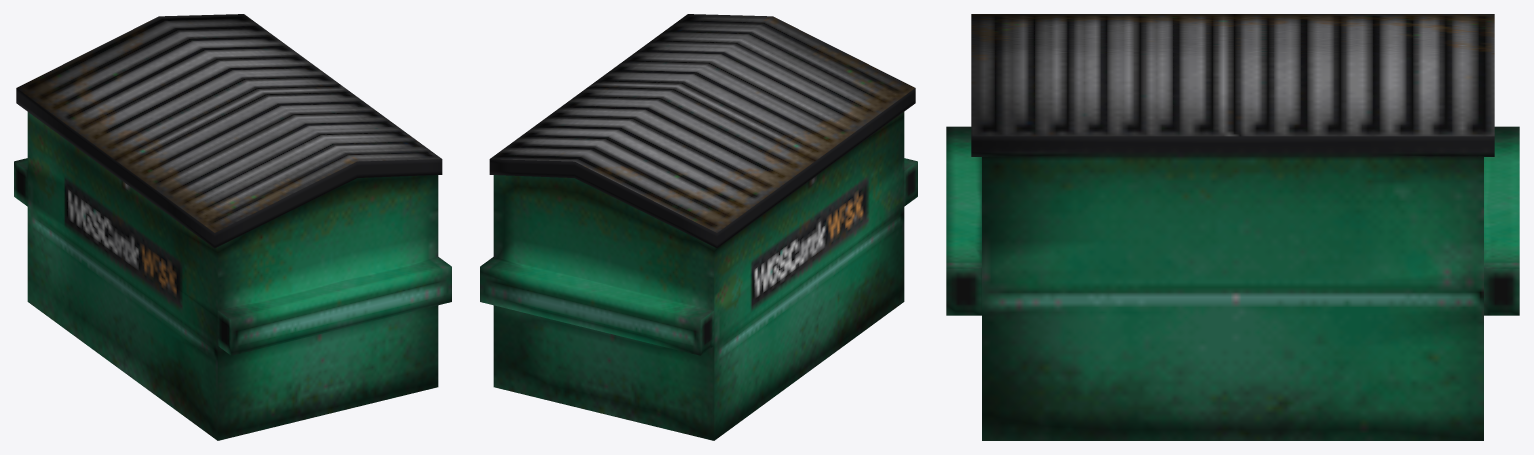
File: dumpster0.fbx
3 views of the same model, side by side, from view 1: azimuth 30°, elevation 25°; view 2: azimuth 150°, elevation 25°; view 3: azimuth 270°, elevation 25° (orthographic). The views are drawn at different scales.
Visible parts, largest first — view 1: dumpster0; view 2: dumpster0; view 3: dumpster0.
Part boxes in pixels (box(x1,y1,x2,y2)): dumpster0: box(14, 14, 451, 440); dumpster0: box(480, 14, 917, 440); dumpster0: box(946, 14, 1519, 440).
Size of the model in its own units: 115 by 190 by 120.
Materials: 1 (1 with a texture image).
